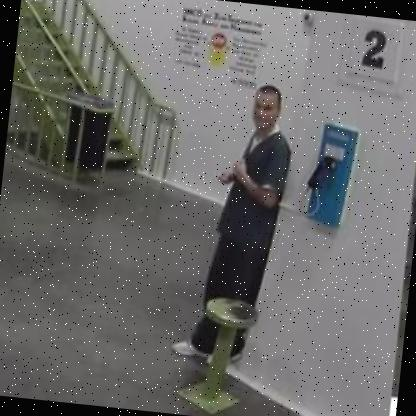person: (159, 70, 304, 382)
